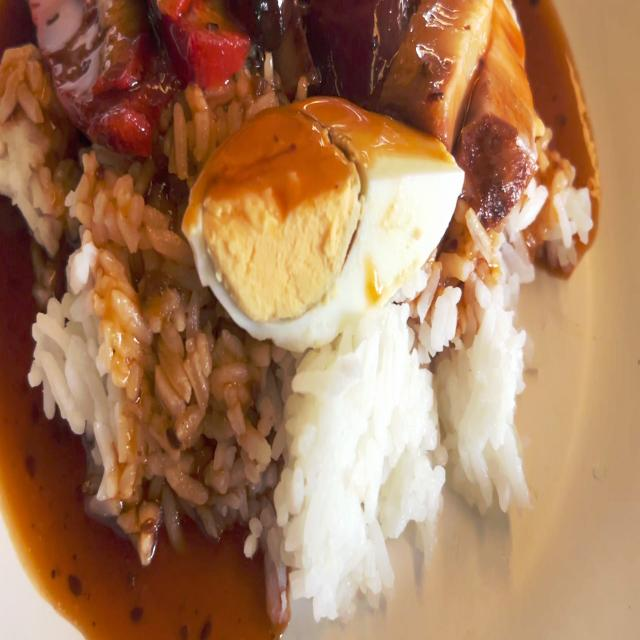boiled_egg: (192, 98, 466, 333)
chainese_sausage: (248, 0, 400, 103), (242, 0, 319, 108), (322, 0, 399, 88)
crispy_pork: (462, 0, 530, 221), (381, 0, 475, 121)
red_pork: (30, 0, 242, 159), (41, 0, 170, 153), (161, 0, 246, 84)
red_pork_and_crispy_pork: (0, 0, 586, 617)
rice: (28, 179, 248, 532), (265, 329, 448, 609), (446, 278, 536, 506), (531, 110, 576, 280)
